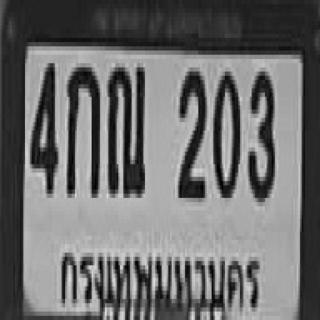A01: (65, 63, 98, 194)
A19: (107, 59, 143, 194)
N00: (212, 67, 238, 194)
N02: (177, 67, 205, 194)
N03: (247, 68, 273, 198)
N04: (28, 59, 57, 190)
P04: (55, 239, 264, 318)
